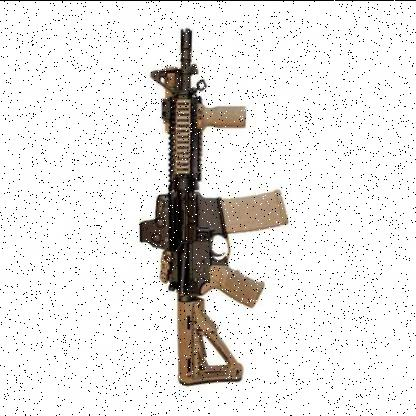rifle: (90, 20, 310, 396)
